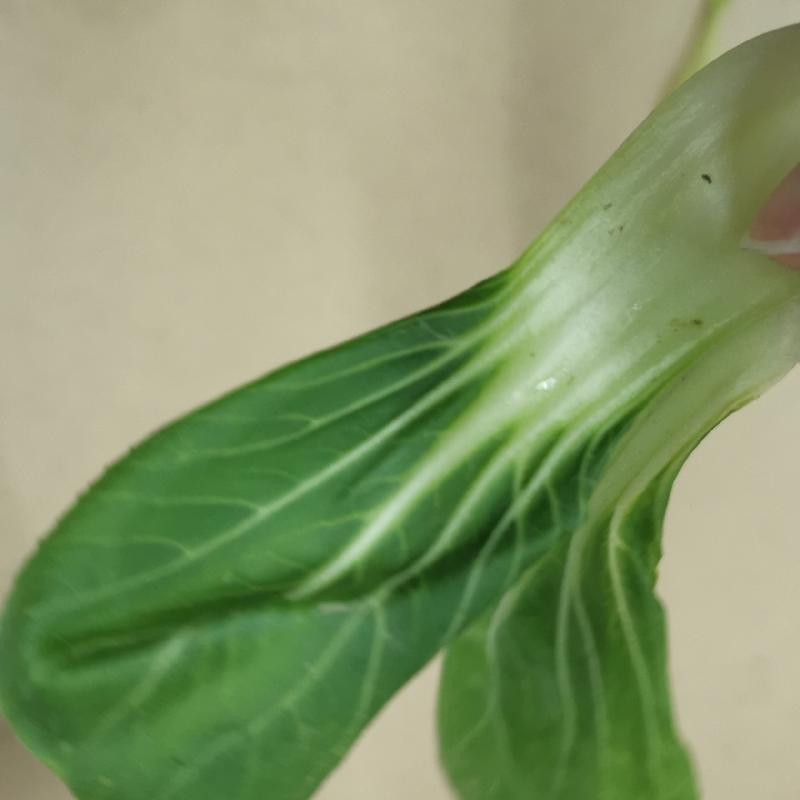green vegatable: (0, 6, 799, 799)
